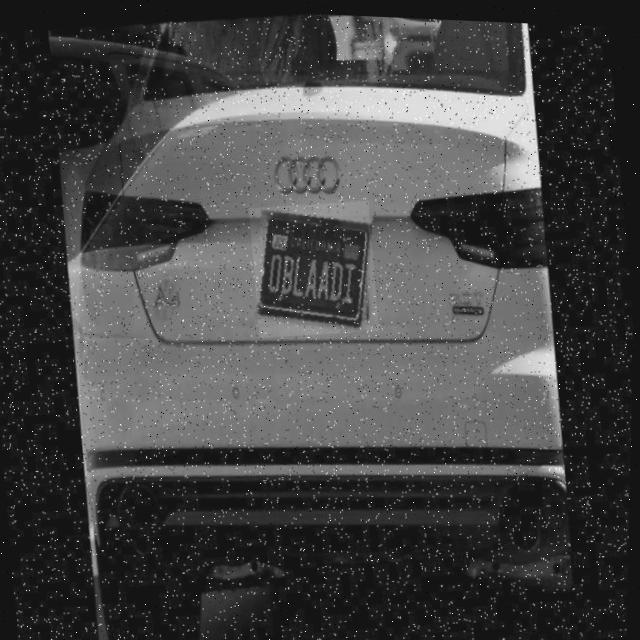LicensePlate: (247, 193, 382, 338)
